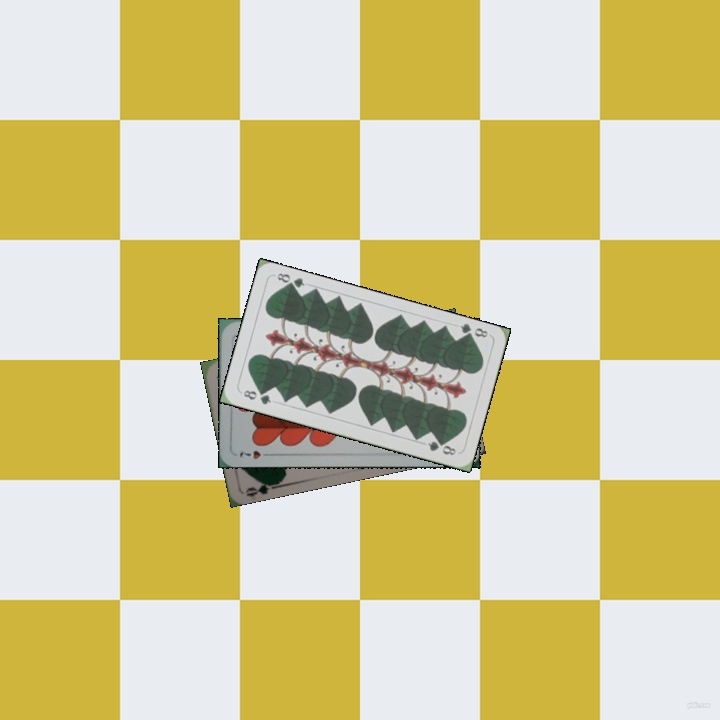G8: (456, 320, 490, 343), (239, 386, 274, 407)
GO: (242, 476, 283, 499)
H7: (236, 447, 274, 462)
